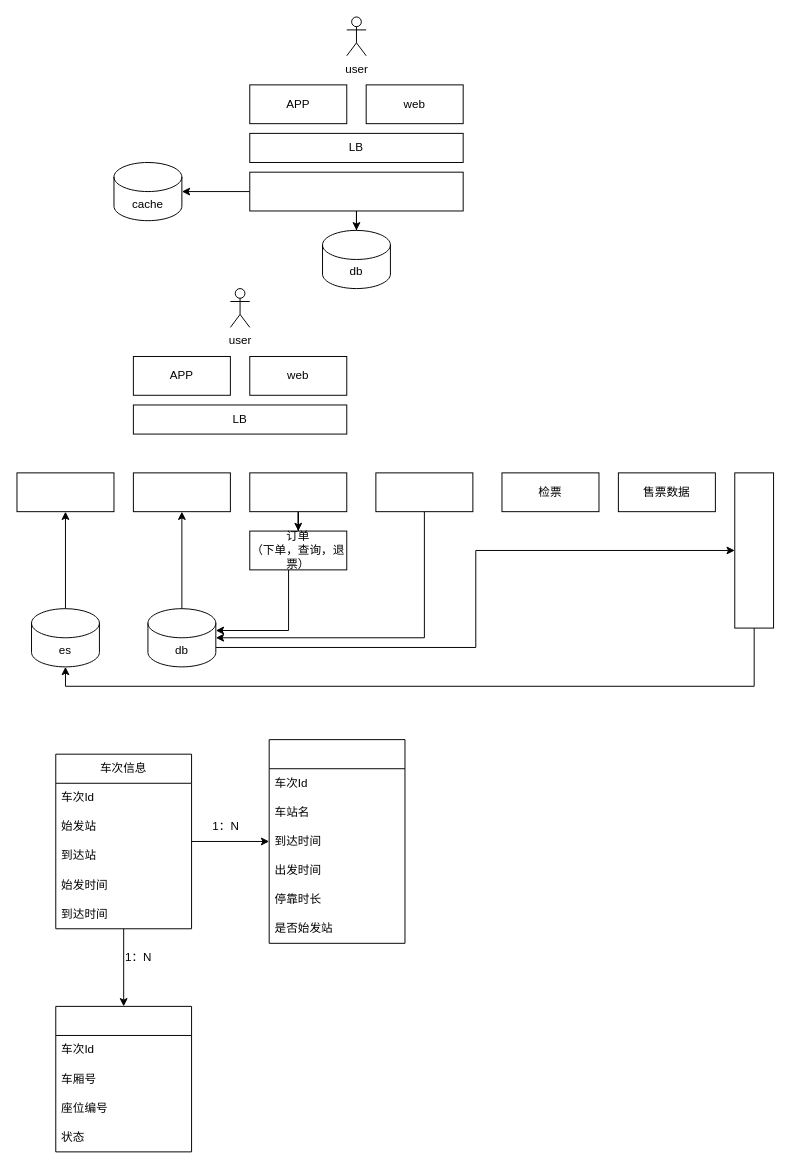
Image size: 791x1169. Some labels were removed from this diagram. Here are the shapes that lost their labels. From the top down, the box of each, then its label:
(249, 171, 463, 211): 火车售票系统
(16, 472, 114, 512): 车票搜索
(132, 472, 230, 512): 车次信息查询
(249, 472, 347, 512): 购票流程
(375, 472, 473, 512): 车次信息管理
(734, 472, 774, 628): 事件监听
(268, 739, 405, 943): 车次时刻信息
(55, 1005, 192, 1152): 座位信息
